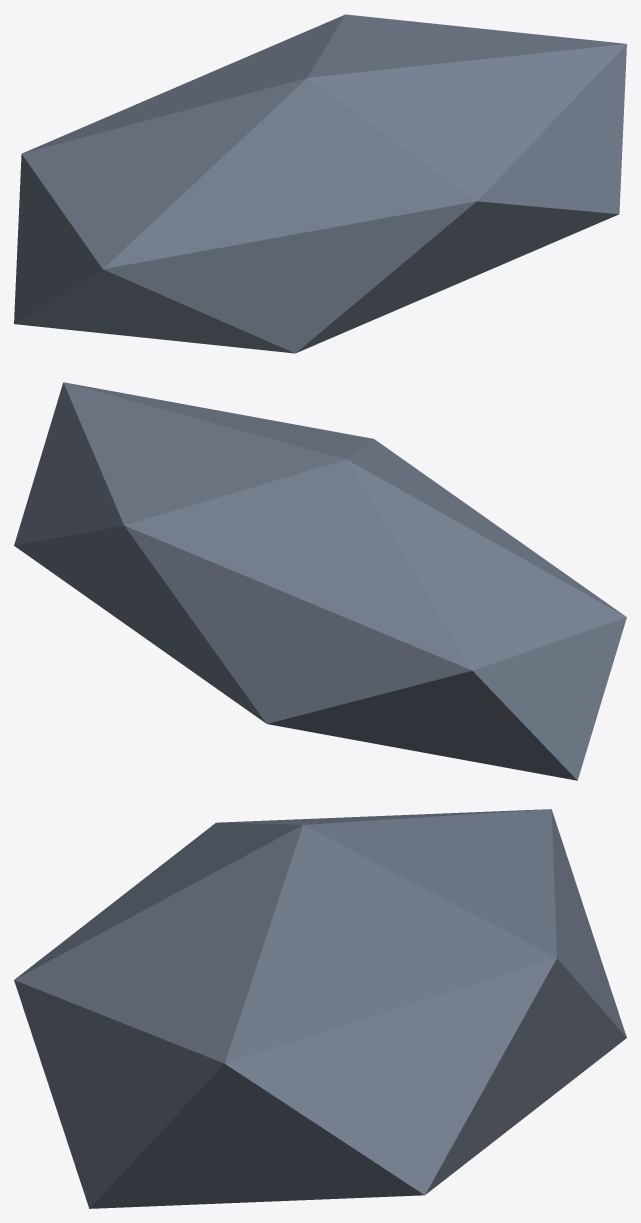
The model's file is EXTC_Rubble_03.glb.
3 renders of one model, top to bottom at view 1: azimuth 30°, elevation 25°; view 2: azimuth 150°, elevation 25°; view 3: azimuth 270°, elevation 25°, orthographic. The views are drawn at different scales.
Visible parts, largest first — view 1: EXTC_Rubble_03; view 2: EXTC_Rubble_03; view 3: EXTC_Rubble_03.
Boxes of the visible parts, x1,y1,x2,y2 form: EXTC_Rubble_03: [14, 14, 626, 353]; EXTC_Rubble_03: [14, 382, 626, 780]; EXTC_Rubble_03: [14, 809, 626, 1208].
Bounding box in the file's own units: 0.9794 × 0.3927 × 0.6399.
